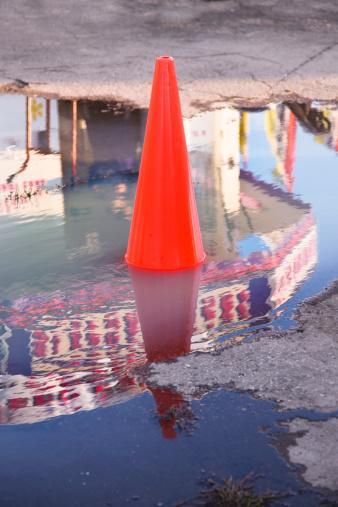Cone: (122, 54, 216, 277)
